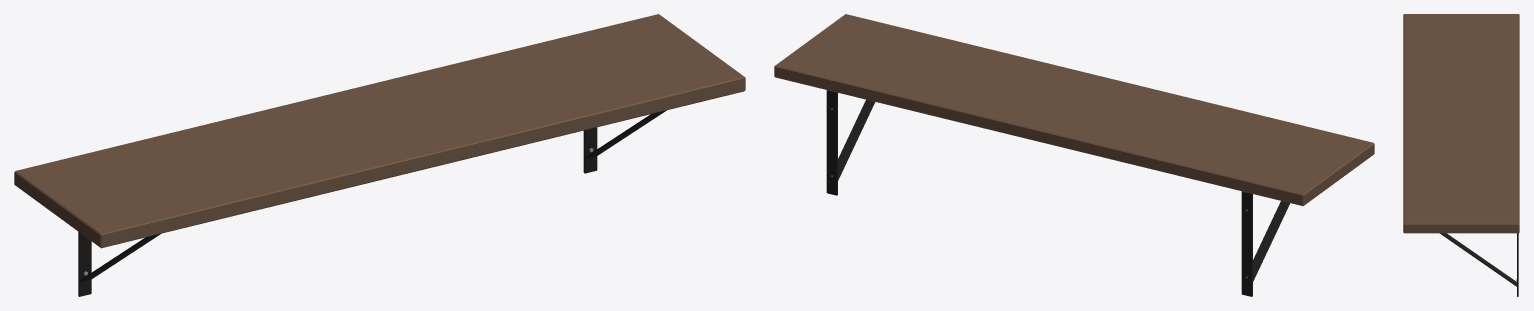
The model's file is kitchen-open-shelf-955259b77066.glb.
The picture shows the model from 3 angles, left to right: view 1: azimuth 30°, elevation 25°; view 2: azimuth 150°, elevation 25°; view 3: azimuth 270°, elevation 25°; orthographic projection. The views are drawn at different scales.
Visible parts, largest first — view 1: wood, enamel-black; view 2: wood, enamel-black; view 3: wood, enamel-black.
Part boxes in pixels (left/top/right/bottom): wood: left=14, top=14, right=745, bottom=248; enamel-black: left=78, top=110, right=666, bottom=296; wood: left=774, top=14, right=1374, bottom=205; enamel-black: left=826, top=90, right=1290, bottom=296; wood: left=1403, top=14, right=1519, bottom=233; enamel-black: left=1440, top=233, right=1518, bottom=296.
Bounding box in the file's own units: 1.2 × 0.25 × 0.28.
